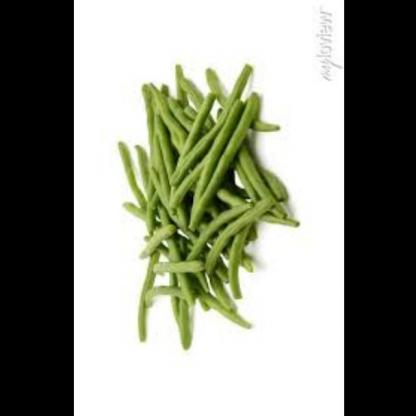beans: (112, 53, 303, 348)
